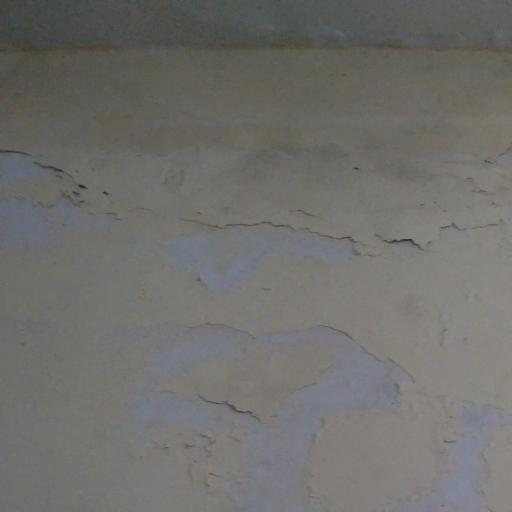peeling: (126, 302, 512, 512), (0, 126, 512, 275)
